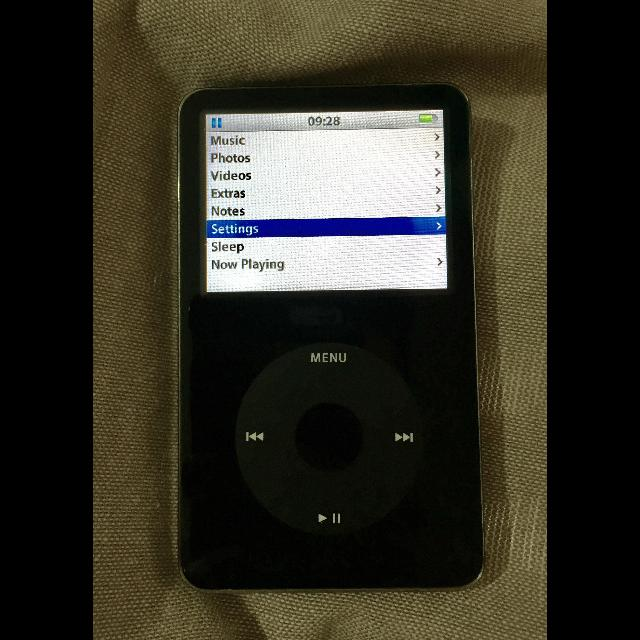Music-Player: (172, 74, 494, 604)
